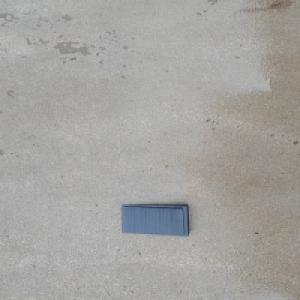PlasticPart: (120, 203, 191, 236)
